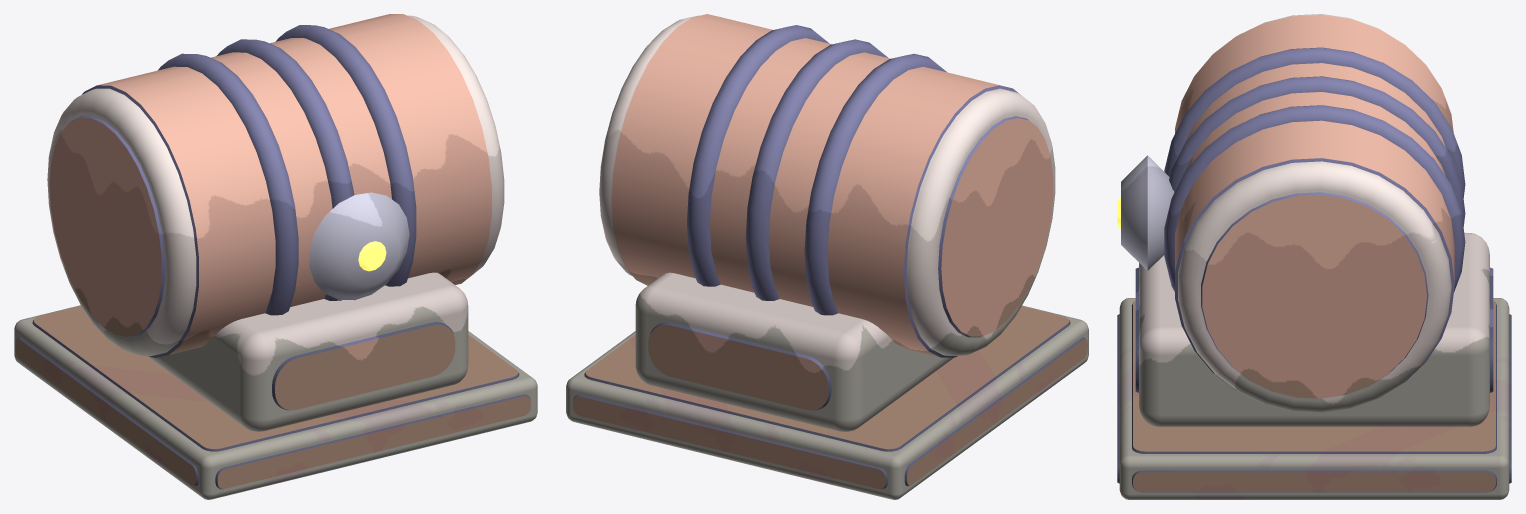
File: R4X_DrivePower.glb
The picture shows the model from 3 angles, left to right: view 1: azimuth 30°, elevation 25°; view 2: azimuth 150°, elevation 25°; view 3: azimuth 270°, elevation 25°; orthographic projection.
Parts seen in each view (by area): view 1: R4X_DrivePower_Body; view 2: R4X_DrivePower_Body; view 3: R4X_DrivePower_Body.
Part boxes in pixels (box(x1,y1,x2,y2)): R4X_DrivePower_Body: box(14, 14, 537, 499); R4X_DrivePower_Body: box(566, 14, 1088, 499); R4X_DrivePower_Body: box(1117, 14, 1511, 499).
Size of the model in its own units: 0.52 by 0.5037 by 0.52.
Materials: 5 (4 with a texture image).
